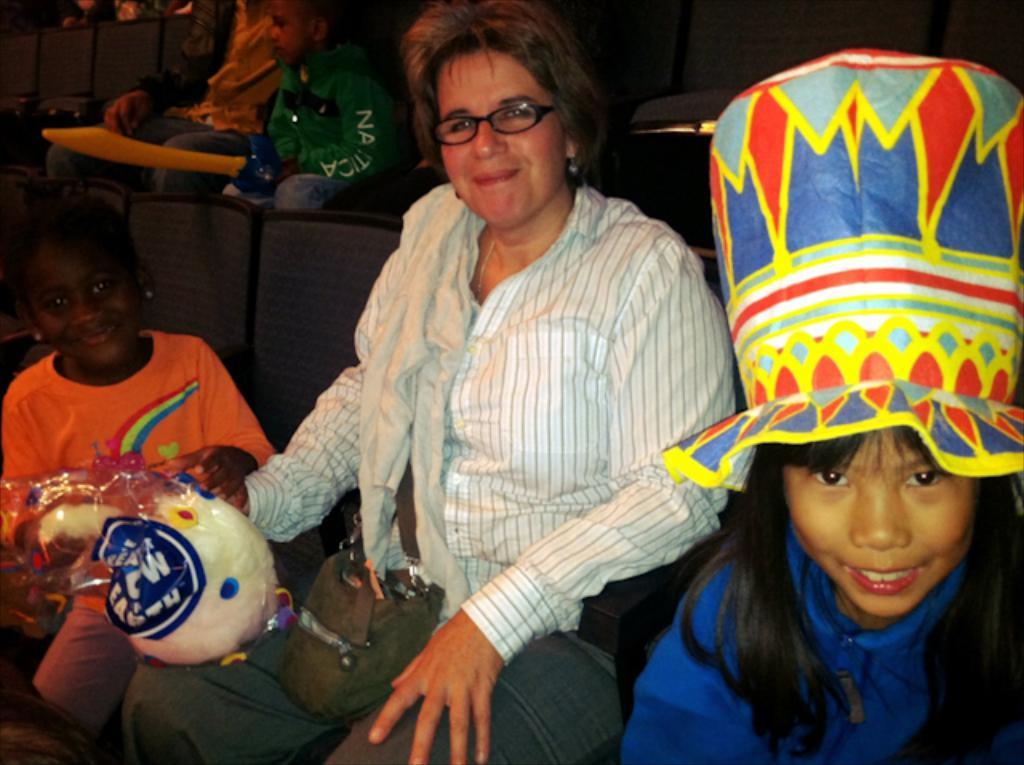Hat: (658, 48, 1022, 493)
